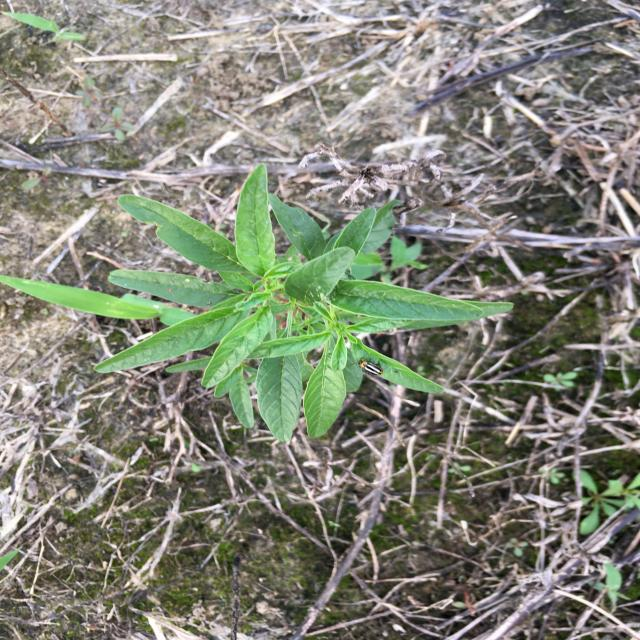Carpetweed: (570, 470, 638, 534)
Waterhemp: (91, 161, 515, 445)
